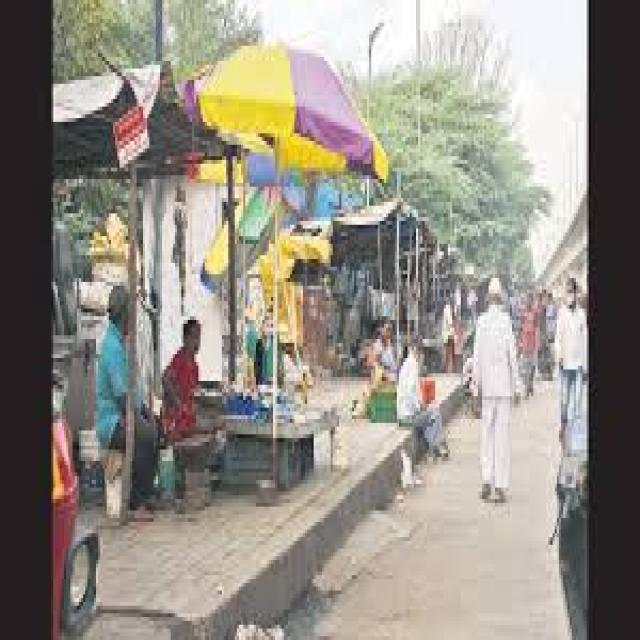person ahead at: (92, 286, 160, 531), (472, 274, 522, 506), (396, 334, 452, 464)
